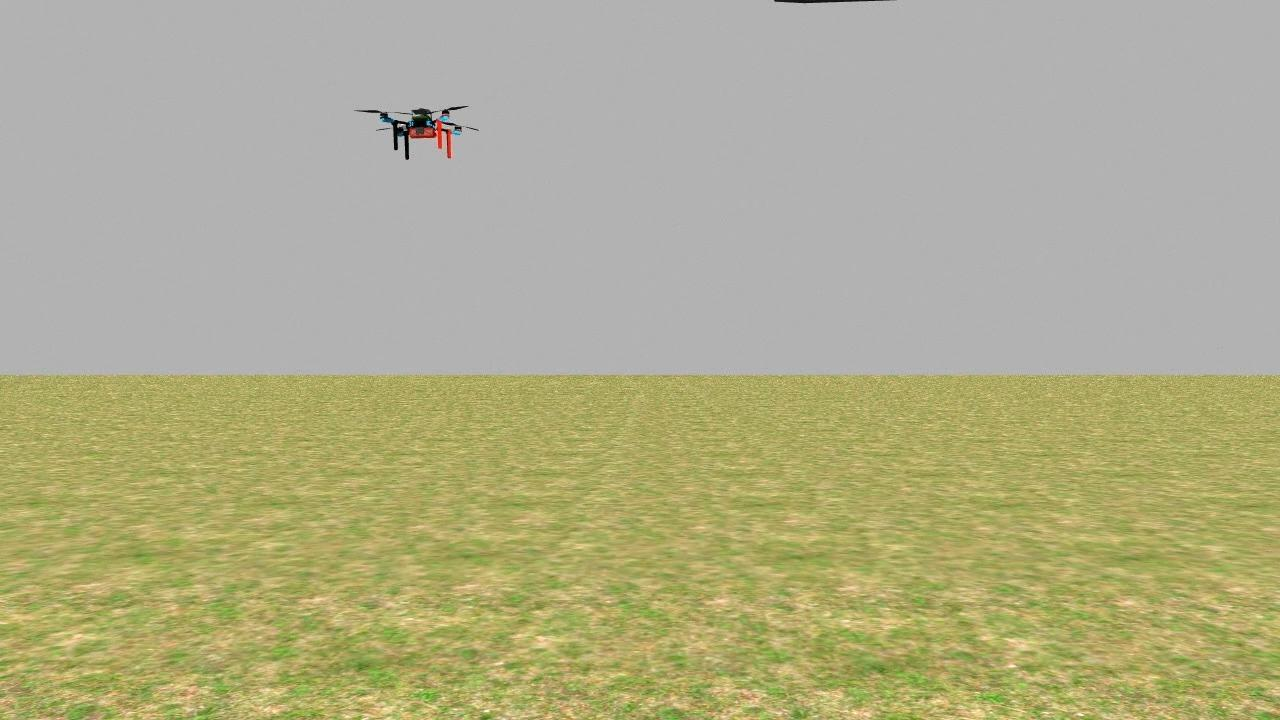UAV: (356, 90, 494, 176)
